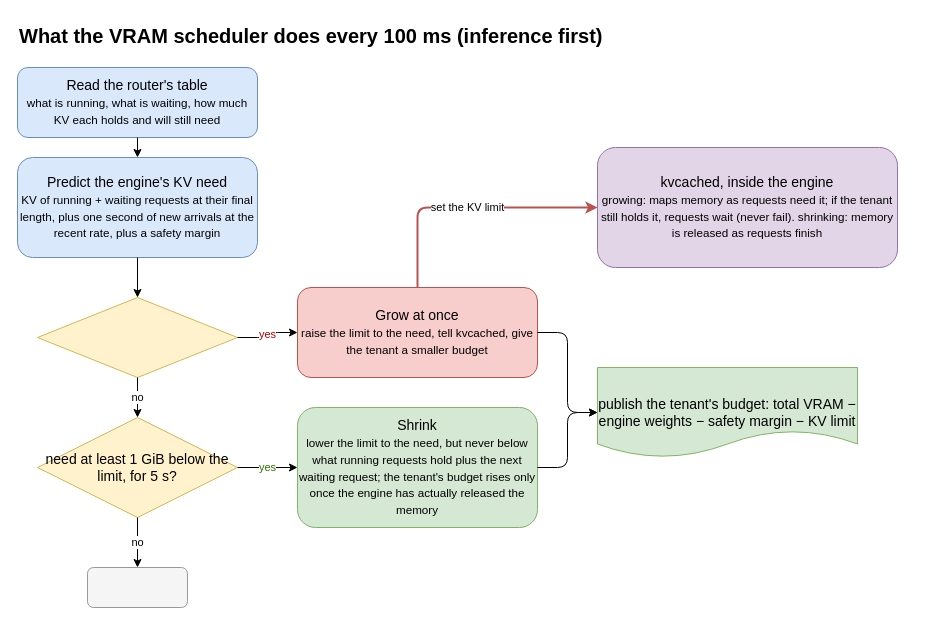
This 935x625 diagram has some shape labels left out. Here are the shapes that lost their labels. From the top down, the box of each, then its label:
(36, 296, 238, 378): need above the current limit?
(86, 566, 188, 608): keep as is
